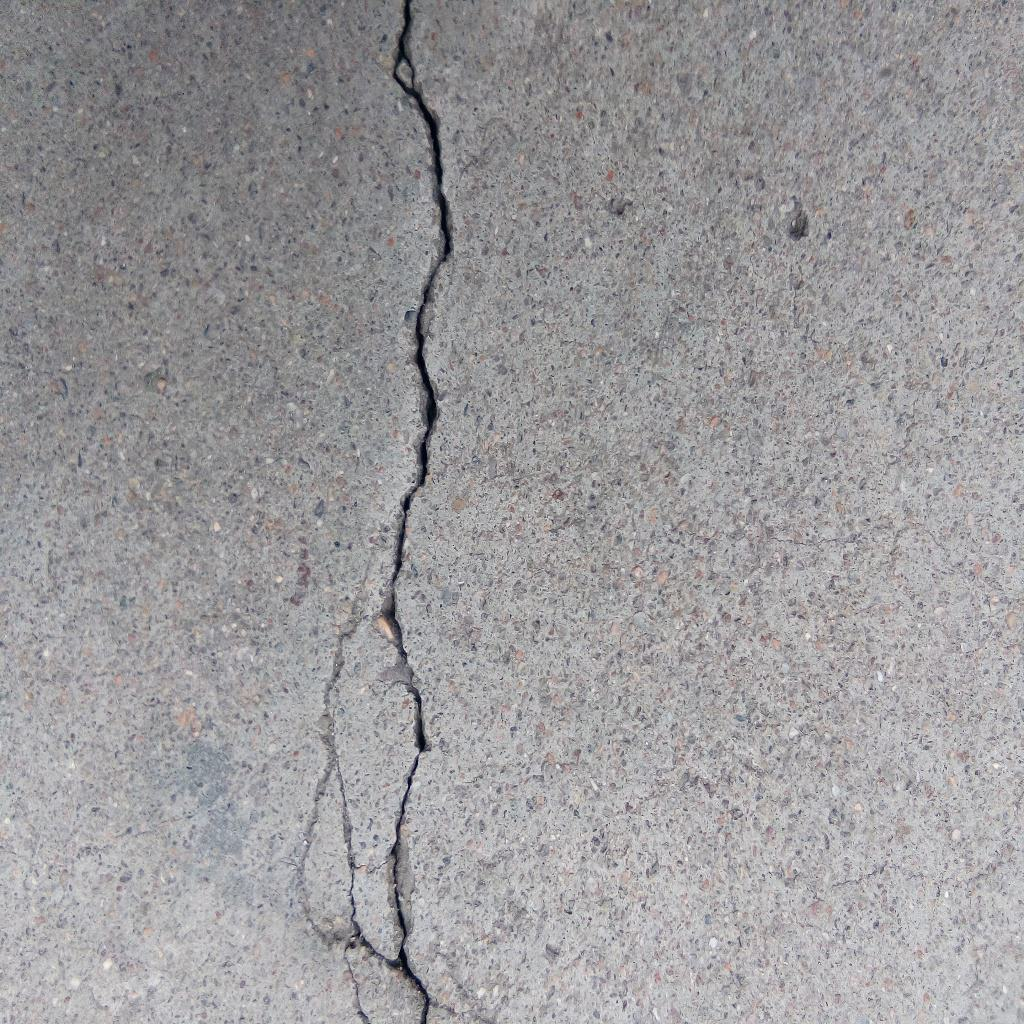Crack: (297, 1, 453, 1024)
